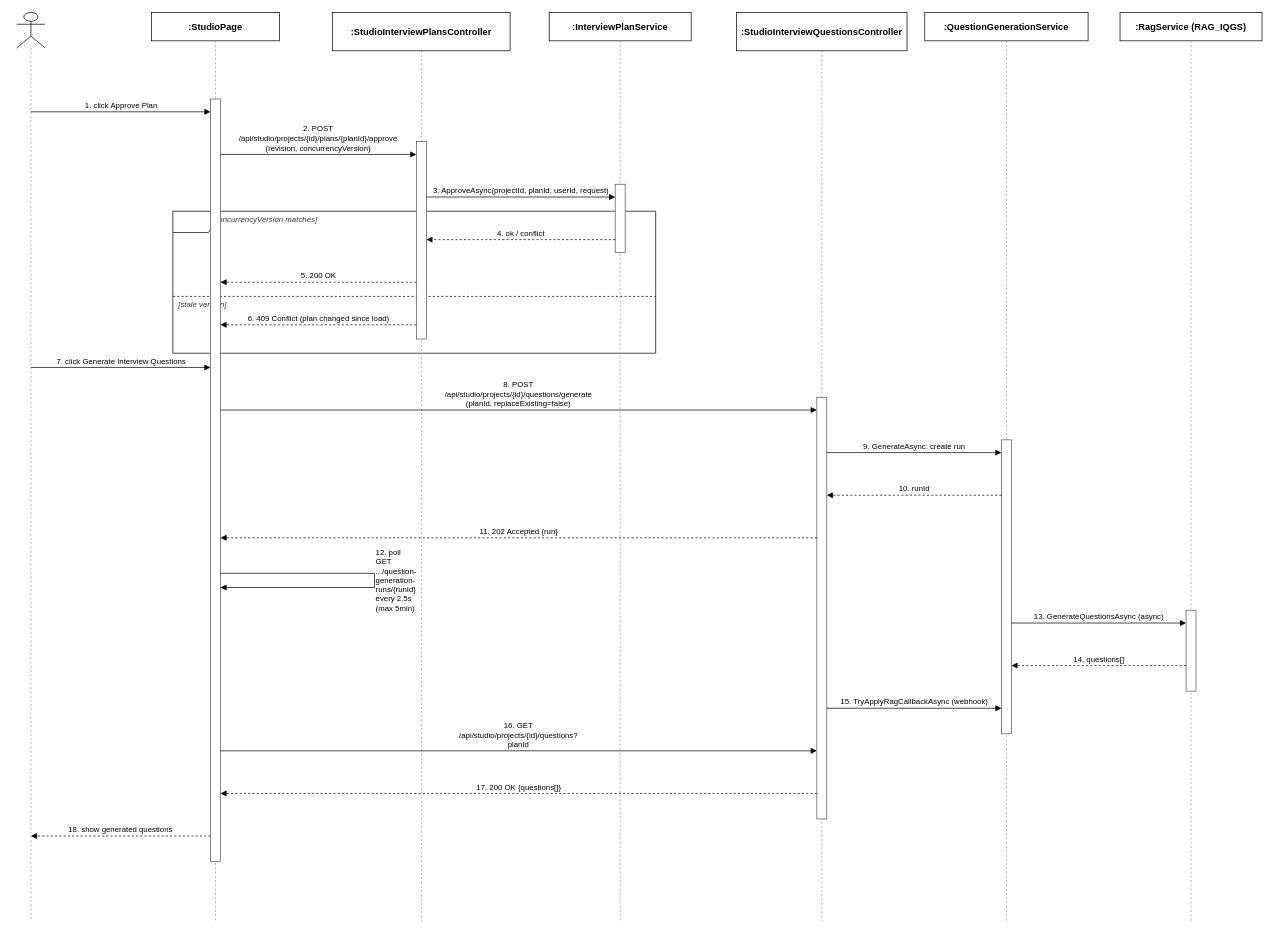
The diagram is 1274 pixels wide and 934 high, and some of its shapes have lost their labels. Each missing label, with the box of its shape:
alt: (172, 211, 656, 353)
HR Manager: (16, 12, 45, 48)
